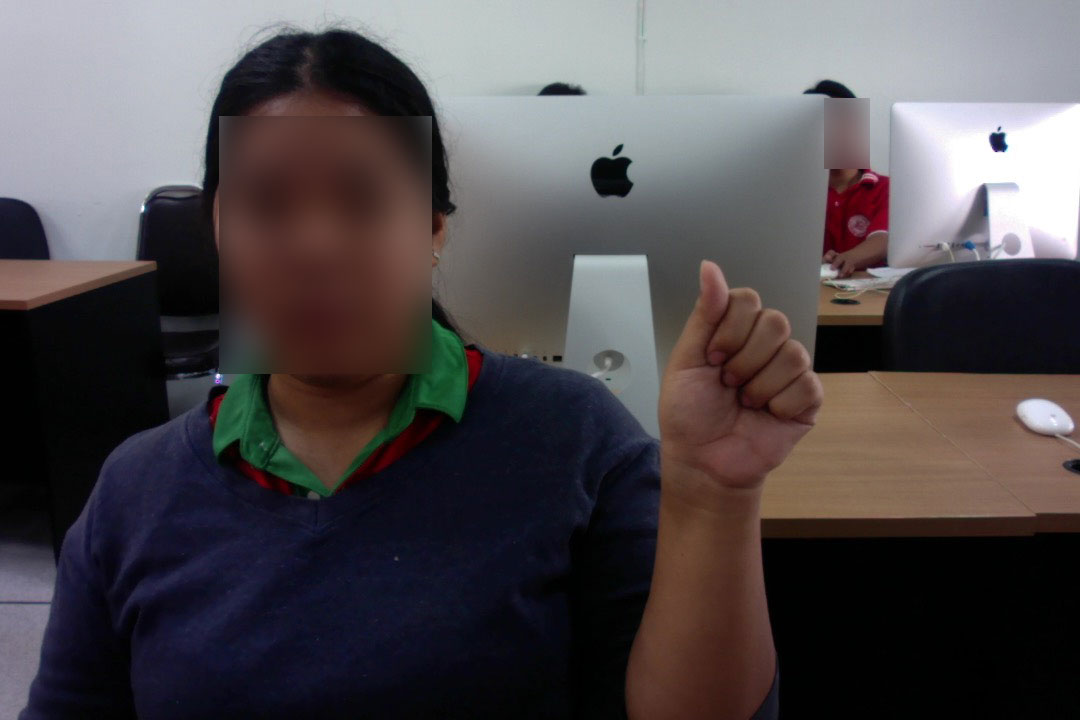or: (652, 253, 828, 496)
